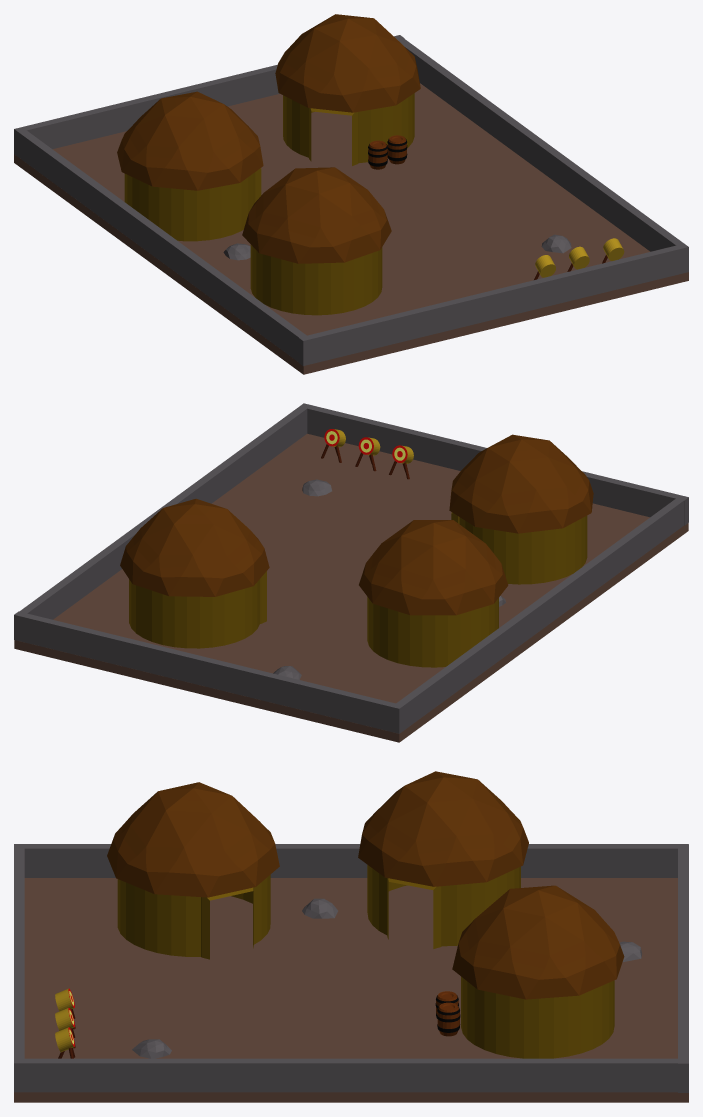
The model's file is archery range.fbx.
3 renders of one model, top to bottom at view 1: azimuth 30°, elevation 25°; view 2: azimuth 150°, elevation 25°; view 3: azimuth 270°, elevation 25°, orthographic. The views are drawn at different scales.
Parts seen in each view (by area): view 1: Cube, Cube.003, Icosphere.001, Icosphere.002, Icosphere.003, Cylinder.002, Cylinder.001, Cylinder.003; view 2: Cube, Cube.003, Icosphere.002, Icosphere.003, Icosphere.001, Cylinder.003, Cylinder.001, Cylinder.002; view 3: Cube, Cube.003, Icosphere.003, Icosphere.001, Icosphere.002, Cylinder.003, Cylinder.002, Cylinder.001, Cylinder.011, Icosphere.004, Icosphere.
Part boxes in pixels (<box>): Cube: <box>14,83,688,374</box>; Cube.003: <box>14,35,688,366</box>; Icosphere.001: <box>242,167,391,263</box>; Icosphere.002: <box>117,91,263,190</box>; Icosphere.003: <box>275,14,420,112</box>; Cylinder.002: <box>250,244,382,315</box>; Cylinder.001: <box>124,168,261,241</box>; Cylinder.003: <box>283,93,414,165</box>; Cube: <box>14,433,688,742</box>; Cube.003: <box>14,403,688,733</box>; Icosphere.002: <box>359,520,508,615</box>; Icosphere.003: <box>120,498,269,596</box>; Icosphere.001: <box>449,434,593,533</box>; Cylinder.003: <box>129,571,266,648</box>; Cylinder.001: <box>367,597,498,667</box>; Cylinder.002: <box>451,512,587,584</box>; Cube: <box>14,878,688,1102</box>; Cube.003: <box>14,844,688,1092</box>; Icosphere.003: <box>452,885,624,999</box>; Icosphere.001: <box>107,782,279,897</box>; Icosphere.002: <box>358,771,528,886</box>; Cylinder.003: <box>461,976,614,1058</box>; Cylinder.002: <box>117,874,270,959</box>; Cylinder.001: <box>367,865,520,948</box>; Cylinder.011: <box>437,1002,460,1036</box>; Icosphere.004: <box>302,898,337,918</box>; Icosphere: <box>132,1039,171,1058</box>.
Size of the model in its own units: 747 by 232 by 970.
